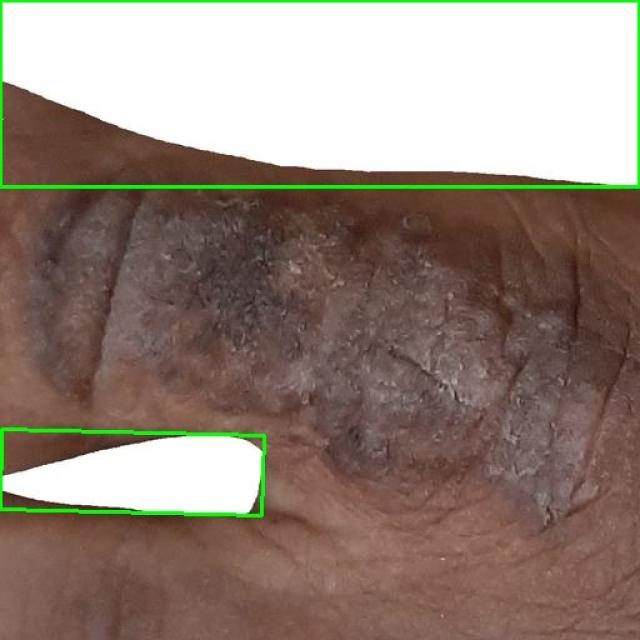Contact Dermatitis: (0, 0, 639, 186), (0, 429, 264, 516)
